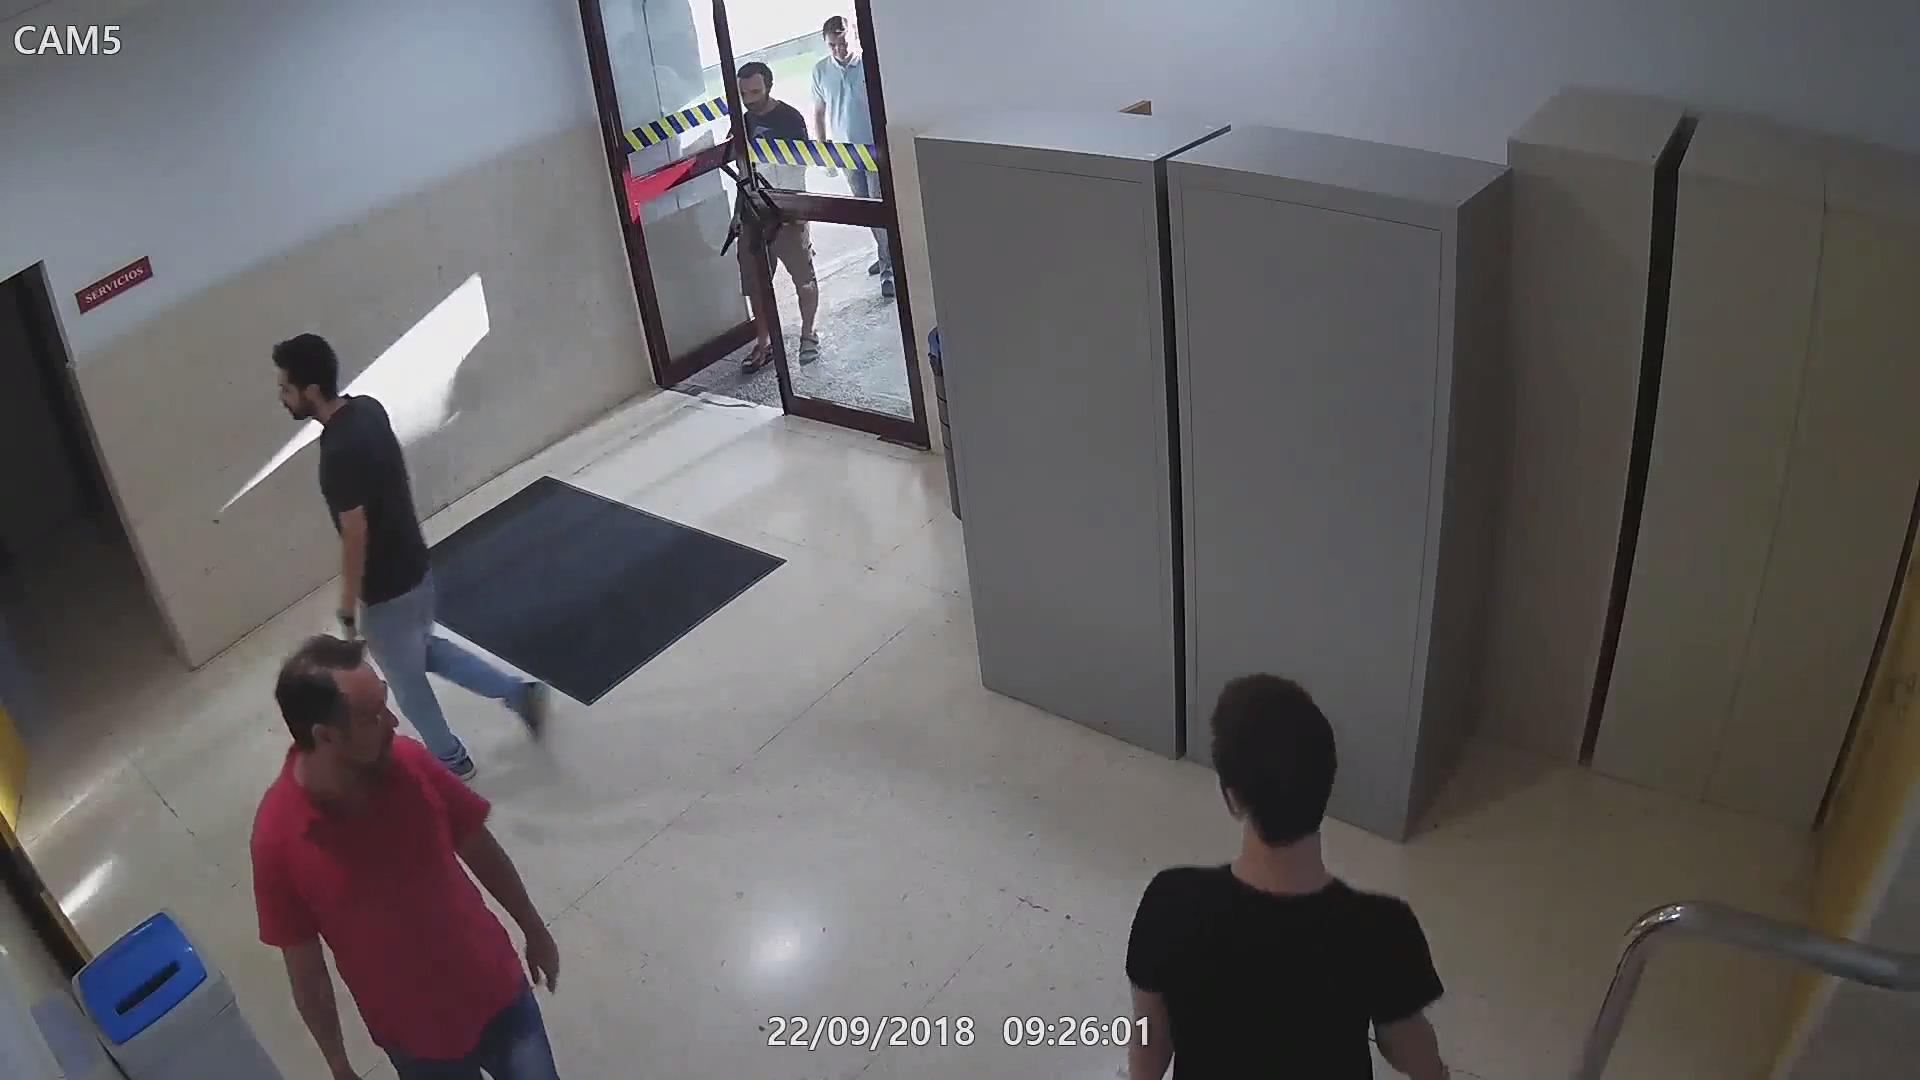Handgun: (712, 212, 741, 266)
